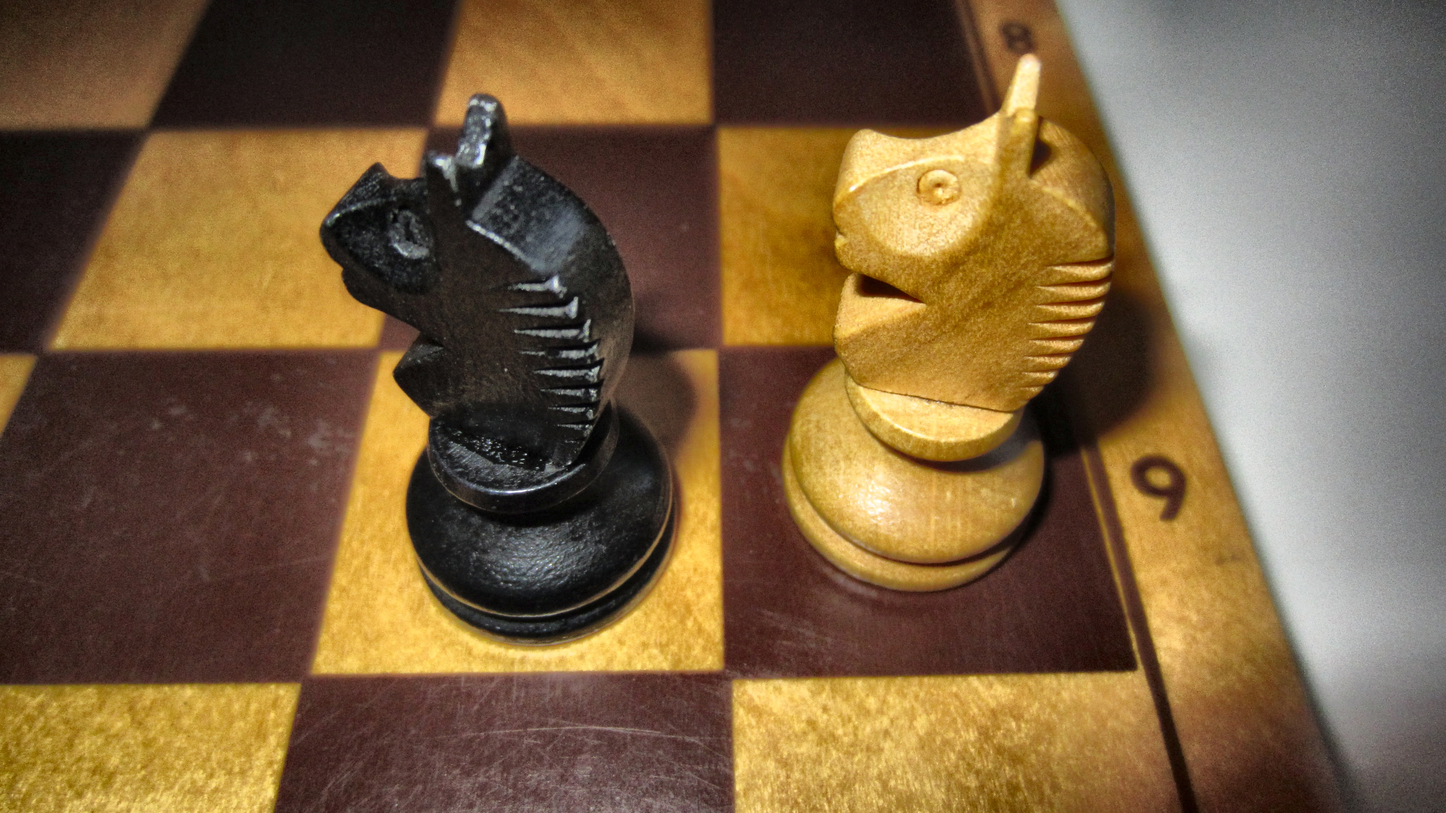black-knight: (313, 88, 683, 650)
white-knight: (776, 54, 1121, 603)
